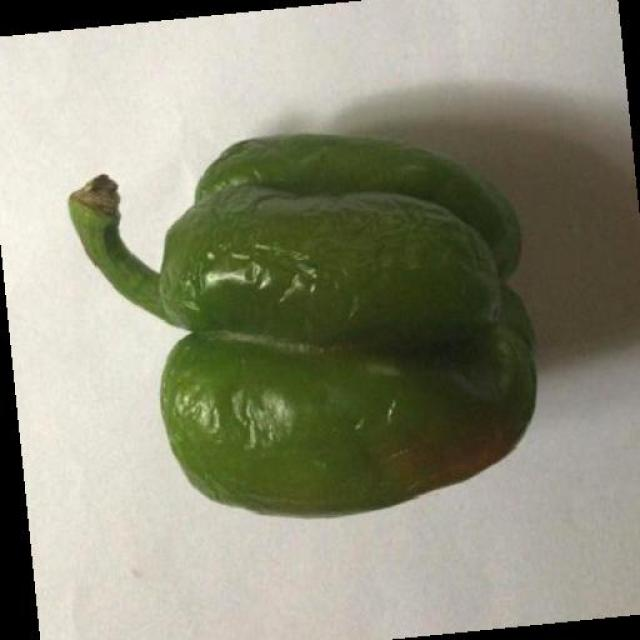Stale_Capsicum: (127, 132, 547, 516)
